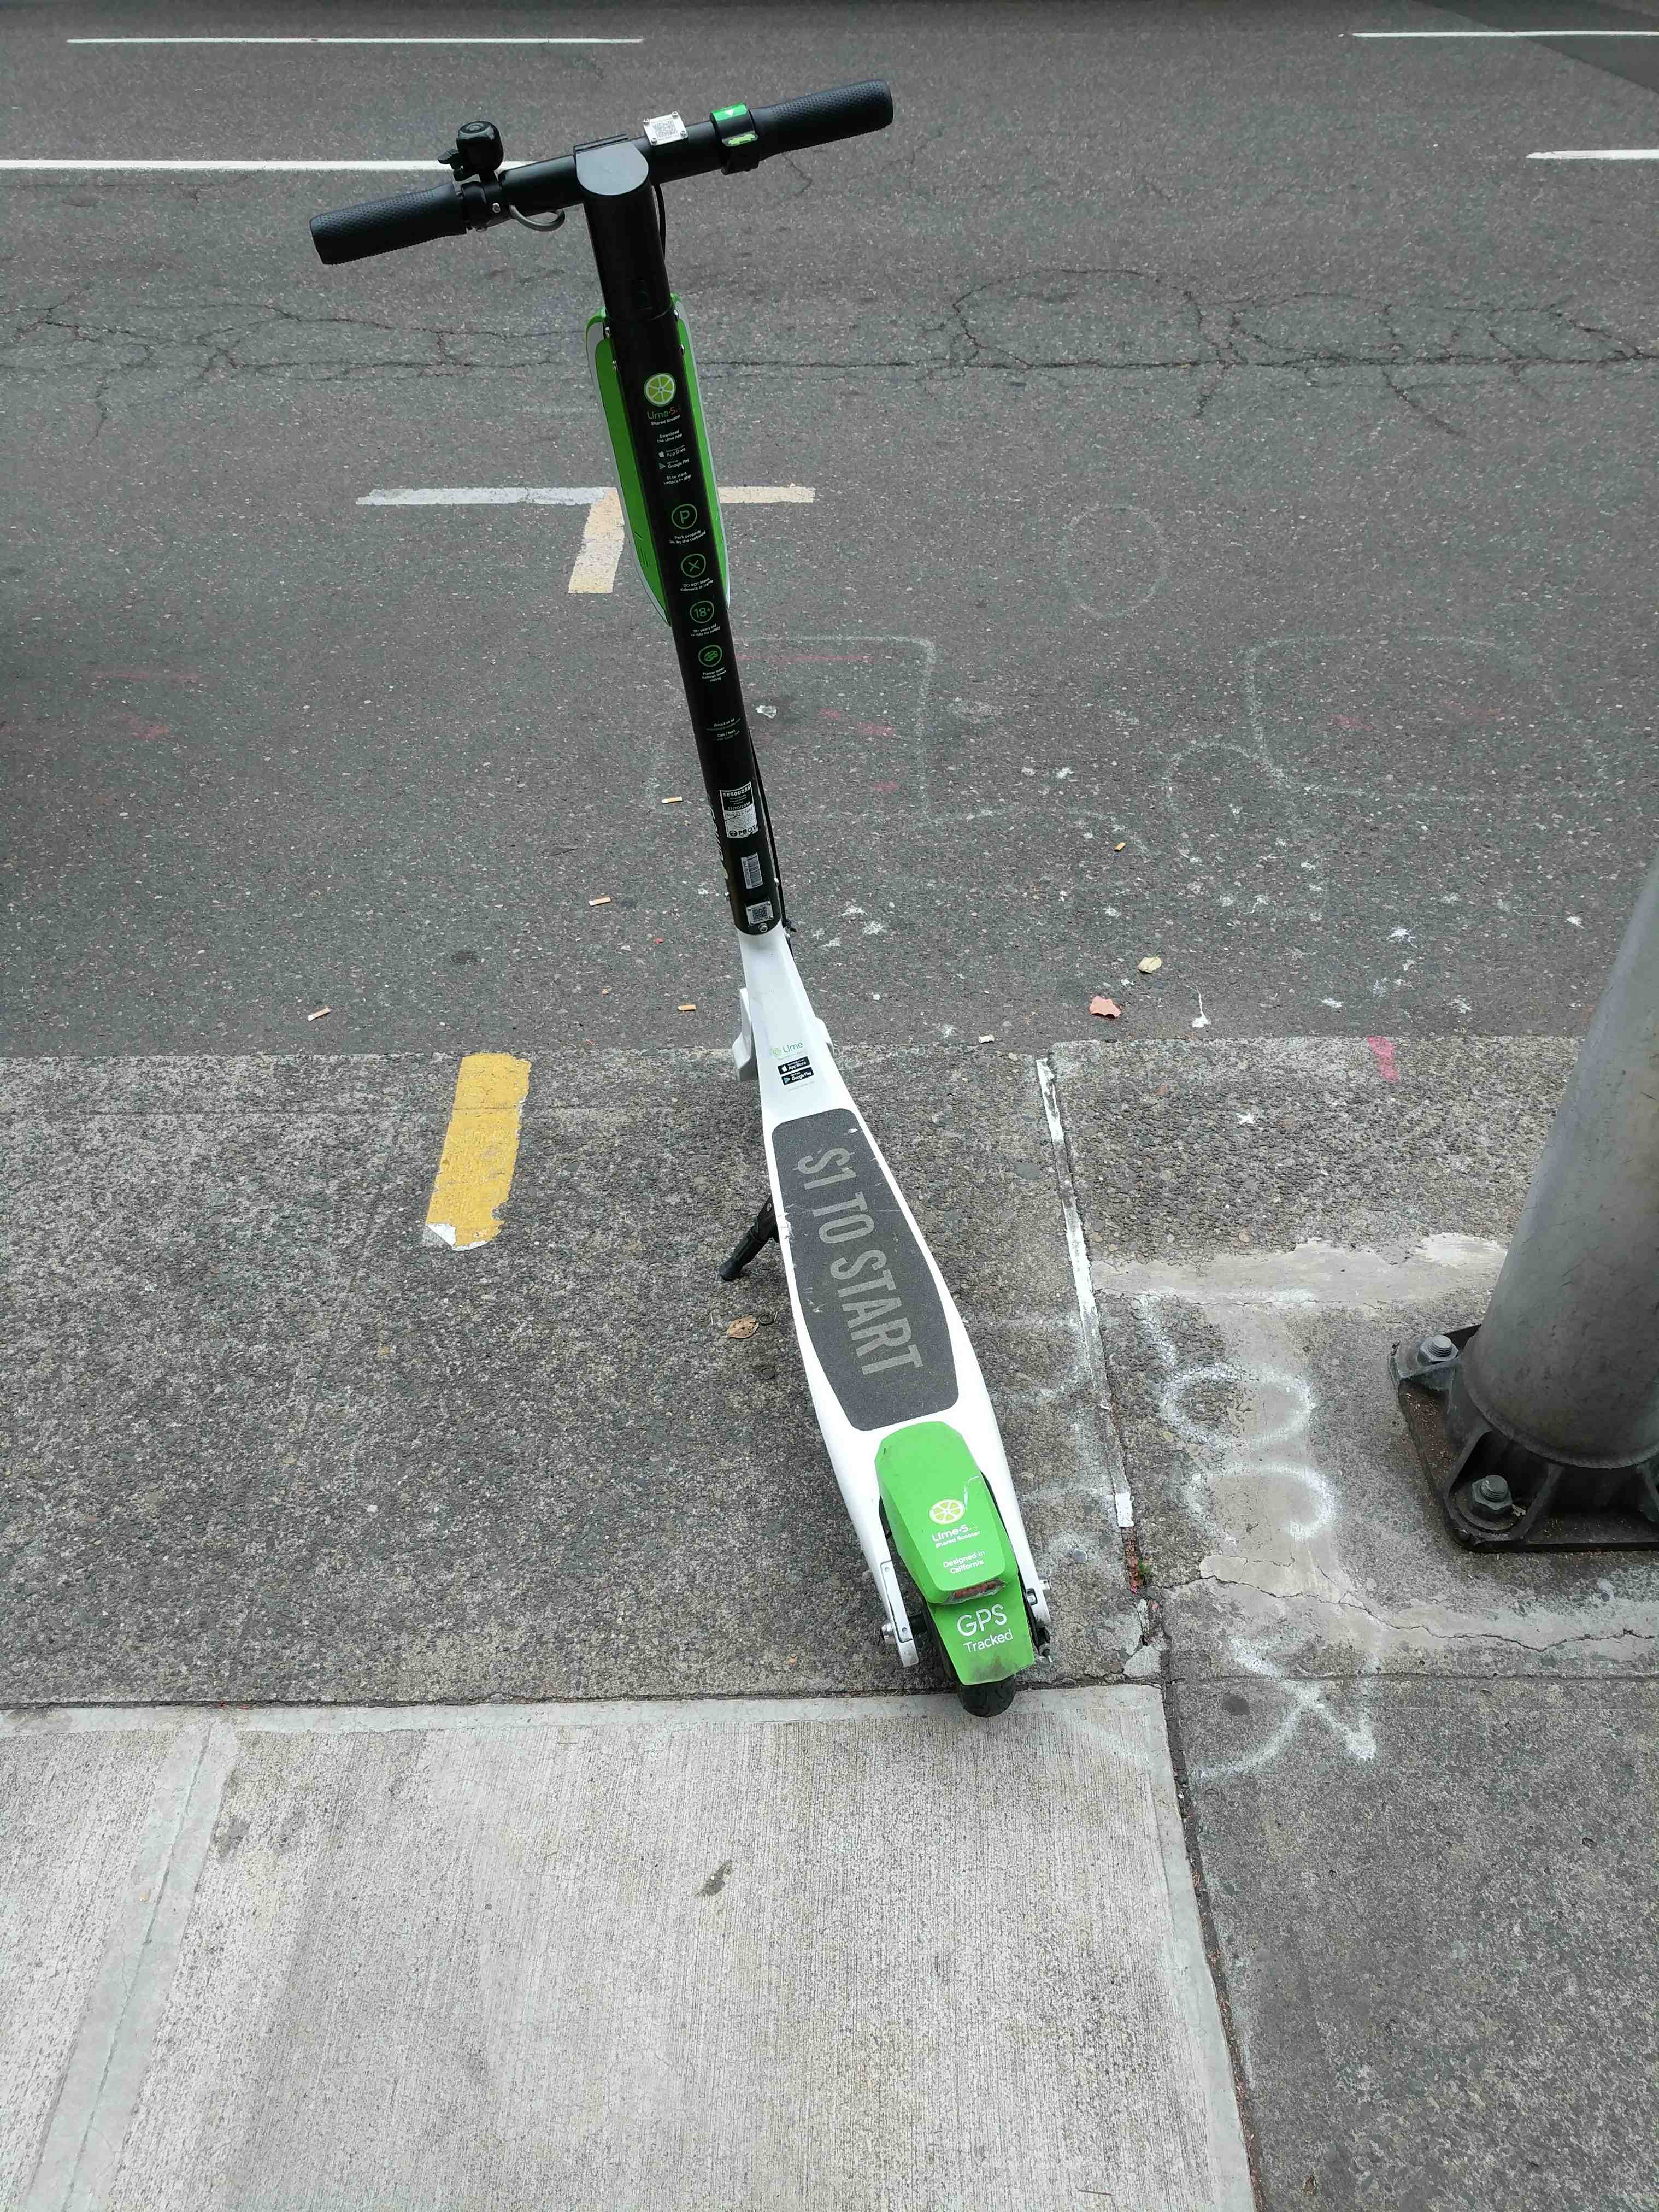scooter: (274, 63, 1107, 1759)
